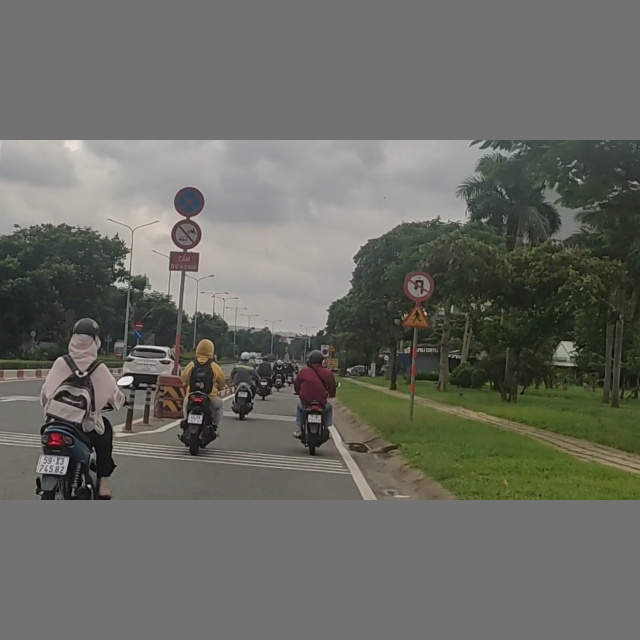P.102: (135, 320, 144, 329)
P.111: (171, 219, 202, 249)
P.124a*: (404, 271, 435, 301)
P.130: (175, 187, 205, 216)
R.302a: (134, 330, 143, 339)
W.224: (402, 303, 431, 328)
